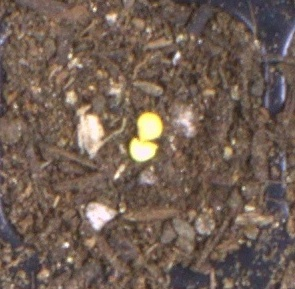chilli seed: (135, 111, 163, 141), (128, 137, 158, 162)
